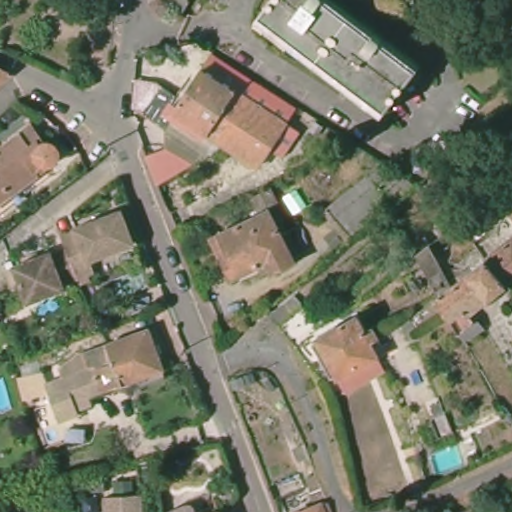pool: (426, 442, 468, 477), (1, 366, 12, 419), (29, 299, 61, 316), (41, 428, 61, 444)
